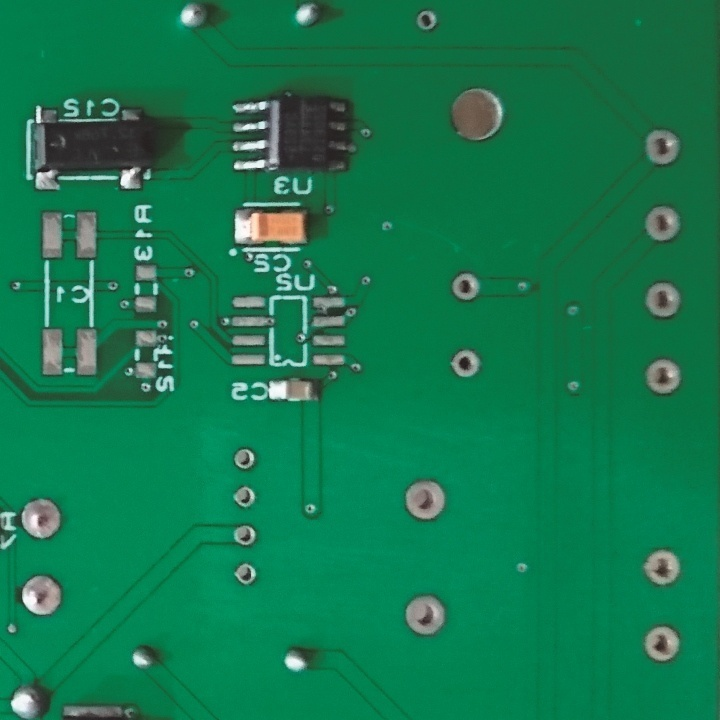F: (16, 495, 66, 546), (400, 591, 449, 640), (401, 477, 450, 524), (20, 573, 69, 618), (641, 548, 686, 592), (644, 279, 687, 322), (640, 126, 682, 170), (643, 621, 684, 666), (641, 202, 685, 243), (642, 355, 687, 387), (446, 347, 481, 381), (447, 270, 481, 304), (230, 560, 262, 585), (232, 446, 259, 474), (231, 524, 260, 549), (233, 483, 259, 510), (413, 8, 439, 34)
